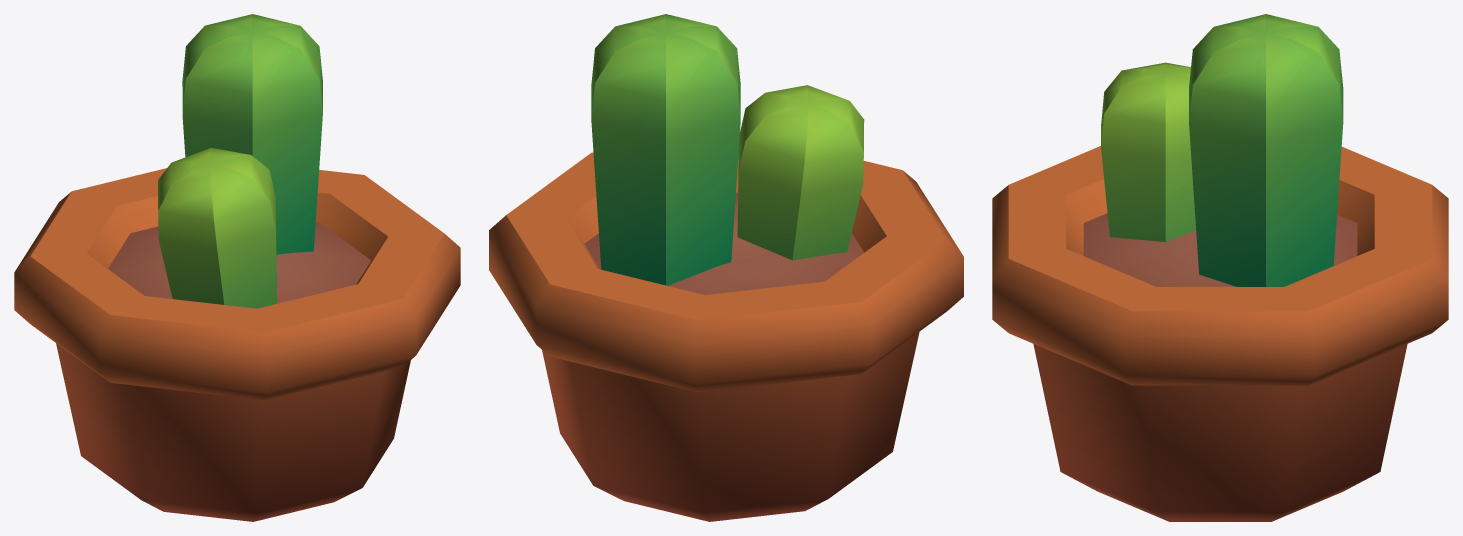
File: fur-cactus-small-a.glb
The picture shows the model from 3 angles, left to right: view 1: azimuth 30°, elevation 25°; view 2: azimuth 150°, elevation 25°; view 3: azimuth 270°, elevation 25°; orthographic projection. The views are drawn at different scales.
Visible parts, largest first — view 1: cactus_small_A; view 2: cactus_small_A; view 3: cactus_small_A.
Boxes of the visible parts, x1,y1,x2,y2 form: cactus_small_A: [14, 14, 460, 521]; cactus_small_A: [489, 14, 963, 521]; cactus_small_A: [992, 14, 1448, 521].
Bounding box in the file's own units: 0.5 × 0.5516 × 0.5.
Materials: 1 (1 with a texture image).
